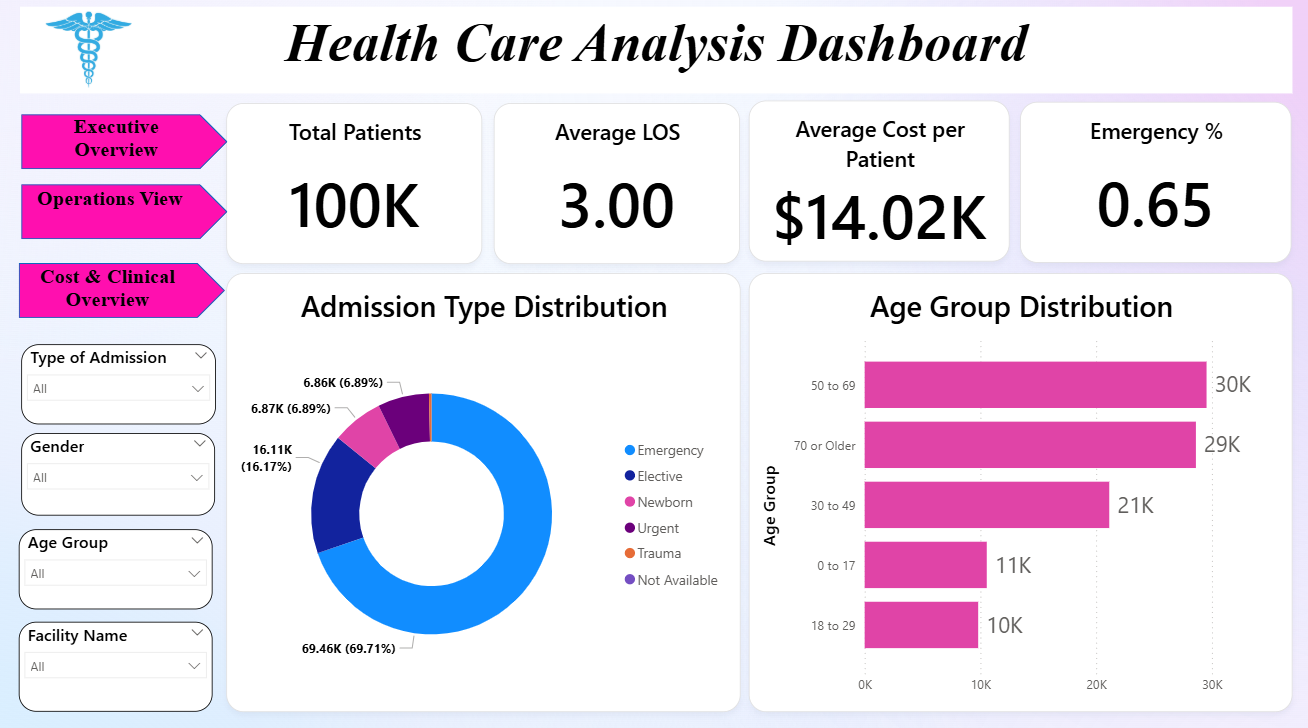

The dashboard page shown, as its layout file describes it:
{"tool":"powerbi","page":{"name":"Executive Overview","canvas":[1280,720],"ordinal":0},"visuals":[{"type":"card","title":"Average LOS","fields":{"Values":["Hospitalops_cleaned1.Average LOS"]},"box":[483,102.7,240.9,157.7],"z":0},{"type":"card","title":"Average Cost per Patient","fields":{"Values":["Hospitalops_cleaned1.Average Cost per Patient"]},"box":[732.5,100.3,255.6,157.7],"z":1000},{"type":"card","title":"Emergency %","fields":{"Values":["Hospitalops_cleaned1.Emergency %"]},"box":[997.8,101.5,265.4,157.7],"z":2000},{"type":"donutChart","title":"Admission Type Distribution","fields":{"Category":["Hospitalops_cleaned1.Type of Admission"],"Y":["CountNonNull(Hospitalops_cleaned1.Facility Name)"]},"box":[220.8,269,503.1,429.5],"z":3000},{"type":"clusteredBarChart","title":"Age Group Distribution","fields":{"Category":["Hospitalops_cleaned1.Age Group"],"Y":["CountNonNull(Hospitalops_cleaned1.Facility Name)"]},"box":[732.3,269,532,429.5],"z":4000},{"type":"slicer","fields":{"Values":["Hospitalops_cleaned1.Age Group"]},"box":[18.3,519.7,189.5,78.3],"z":5000},{"type":"card","title":"Total Patients","fields":{"Values":["Hospitalops_cleaned1.Total patients"]},"box":[221.3,102.7,250.7,157.7],"z":6000},{"type":"slicer","fields":{"Values":["Hospitalops_cleaned1.Facility Name"]},"box":[18.3,610.2,189.5,88],"z":7000},{"type":"slicer","title":"Type of Admission","fields":{"Values":["Hospitalops_cleaned1.Type of Admission"]},"box":[20.8,338.7,190.8,78.3],"z":8000},{"type":"slicer","title":"Gender","fields":{"Values":["Hospitalops_cleaned1.Gender"]},"box":[20.8,425.5,189.5,80.7],"z":9000},{"type":"textbox","box":[19.3,8.4,1245,84.5],"z":10000},{"type":"image","box":[0,8.4,173.7,84.5],"z":11000},{"type":"shape","box":[20.8,182.2,201.8,53.8],"z":12000},{"type":"shape","box":[18.3,259.2,201.8,53.8],"z":13000},{"type":"shape","box":[20.8,113.7,201.8,53.8],"z":14000},{"type":"actionButton","title":"Cost & Clinical Overview","box":[18.3,261.7,173.6,50.1],"z":16000},{"type":"actionButton","title":"Operations View","box":[20.8,184.6,173.6,50.1],"z":17000},{"type":"actionButton","title":"Executive Overview","box":[35.5,114.9,156.5,50.1],"z":17001}]}

Visuals, with their boxes in screenshot pixels (x1, y1, x2, y2), scaled from the page's 1280x720 canvas onto the 1308x728 screenshot:
"Average LOS" card: 494 104 740 263
"Average Cost per Patient" card: 749 101 1010 261
"Emergency %" card: 1020 103 1291 262
"Admission Type Distribution" donutChart: 226 272 740 706
"Age Group Distribution" clusteredBarChart: 748 272 1292 706
slicer - Hospitalops_cleaned1.Age Group: 19 525 212 605
"Total Patients" card: 226 104 482 263
slicer - Hospitalops_cleaned1.Facility Name: 19 617 212 706
"Type of Admission" slicer: 21 342 216 422
"Gender" slicer: 21 430 215 512
textbox: 20 8 1292 94
image: 0 8 177 94
shape: 21 184 227 239
shape: 19 262 225 316
shape: 21 115 227 169
"Cost & Clinical Overview" actionButton: 19 265 196 315
"Operations View" actionButton: 21 187 199 237
"Executive Overview" actionButton: 36 116 196 167
